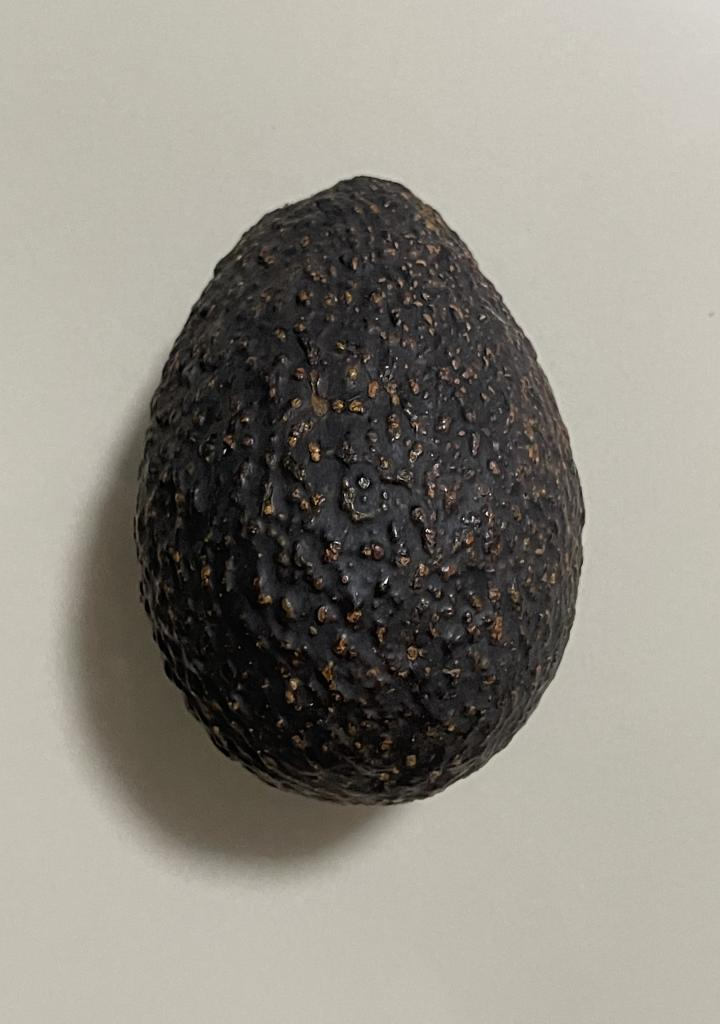Level2: (121, 157, 592, 815)
